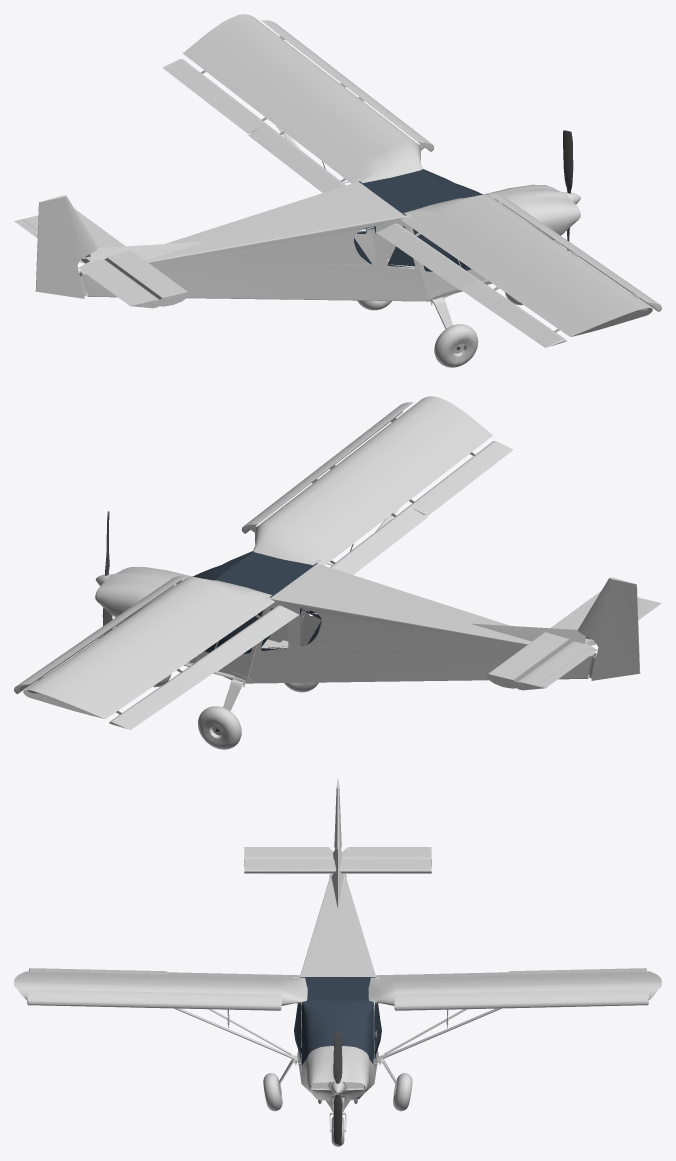
3 views of the same model, one above another, from view 1: azimuth 30°, elevation 25°; view 2: azimuth 150°, elevation 25°; view 3: azimuth 270°, elevation 25° (orthographic). The views are drawn at different scales.
Visible parts, largest first — view 1: body, glass, spin; view 2: body, glass; view 3: body, glass, spin.
Boxes of the visible parts, <box> form: body: <box>14,14,661,367</box>; glass: <box>354,169,483,271</box>; spin: <box>563,130,573,250</box>; body: <box>14,396,661,749</box>; glass: <box>192,551,321,653</box>; body: <box>14,778,661,1146</box>; glass: <box>294,977,381,1064</box>; spin: <box>333,1031,342,1144</box>.
Bounding box in the file's own units: 1.72 × 0.6861 × 2.2.
